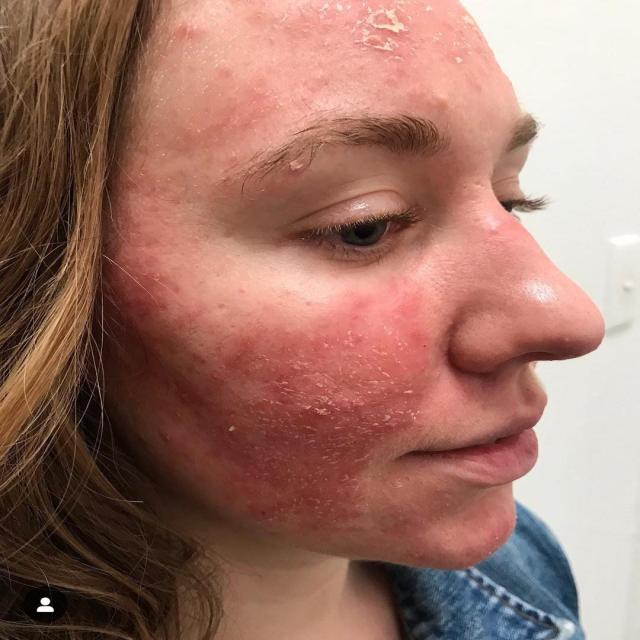Rosacea: (249, 336, 413, 496), (321, 6, 446, 56)
